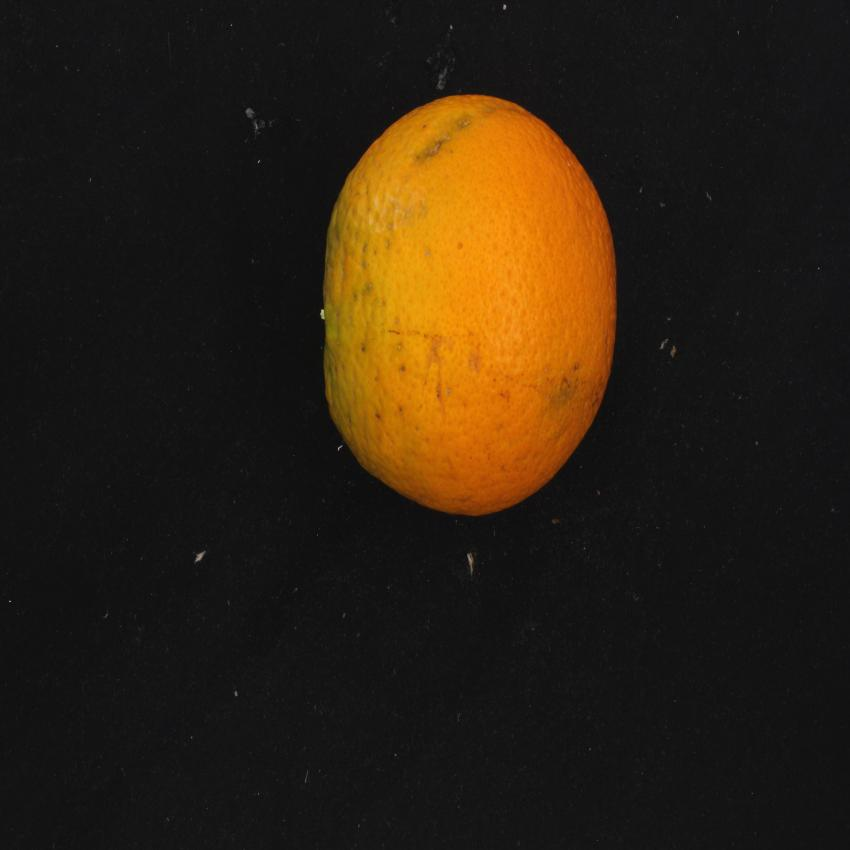Mal estado: (316, 82, 636, 528)
